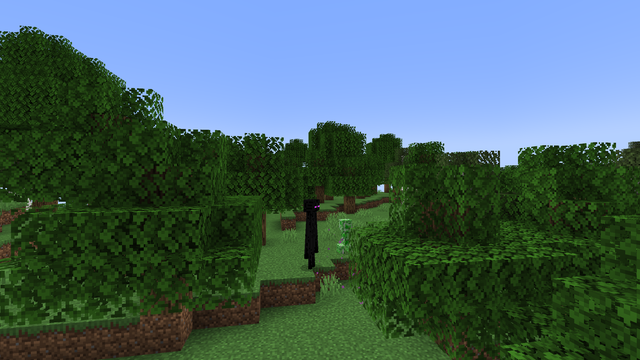creepers: (338, 217, 352, 253)
endermens: (303, 196, 319, 269)
